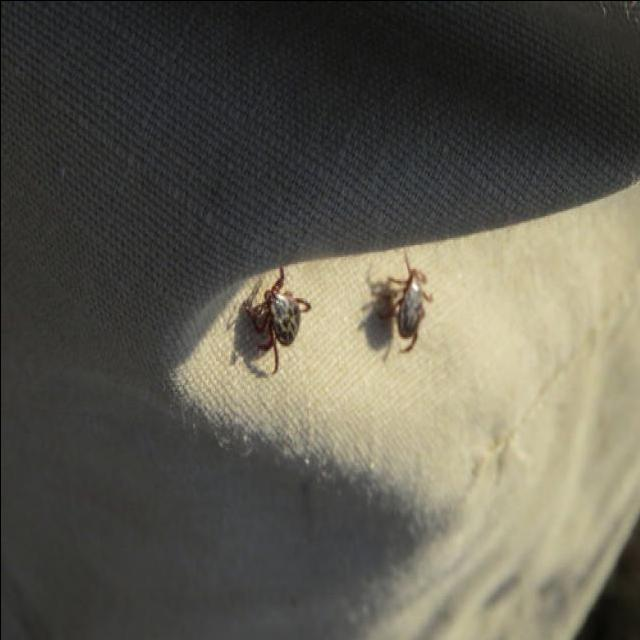Dermacentor Reticulatus-M: (244, 266, 310, 372), (375, 249, 433, 353)
